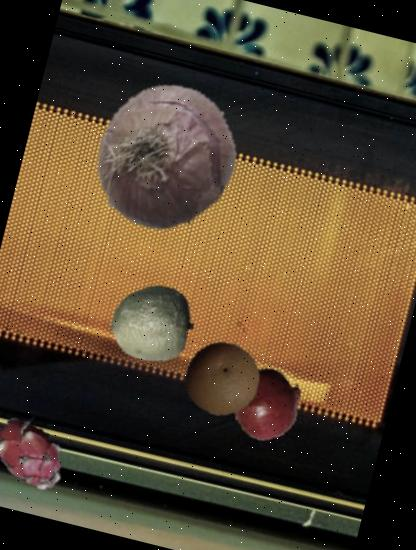Limes: (101, 273, 202, 374)
Onion: (74, 67, 256, 249)
Orange: (177, 333, 268, 424)
Pitahaya: (0, 397, 80, 507)
Pomegranate: (224, 361, 310, 446)
